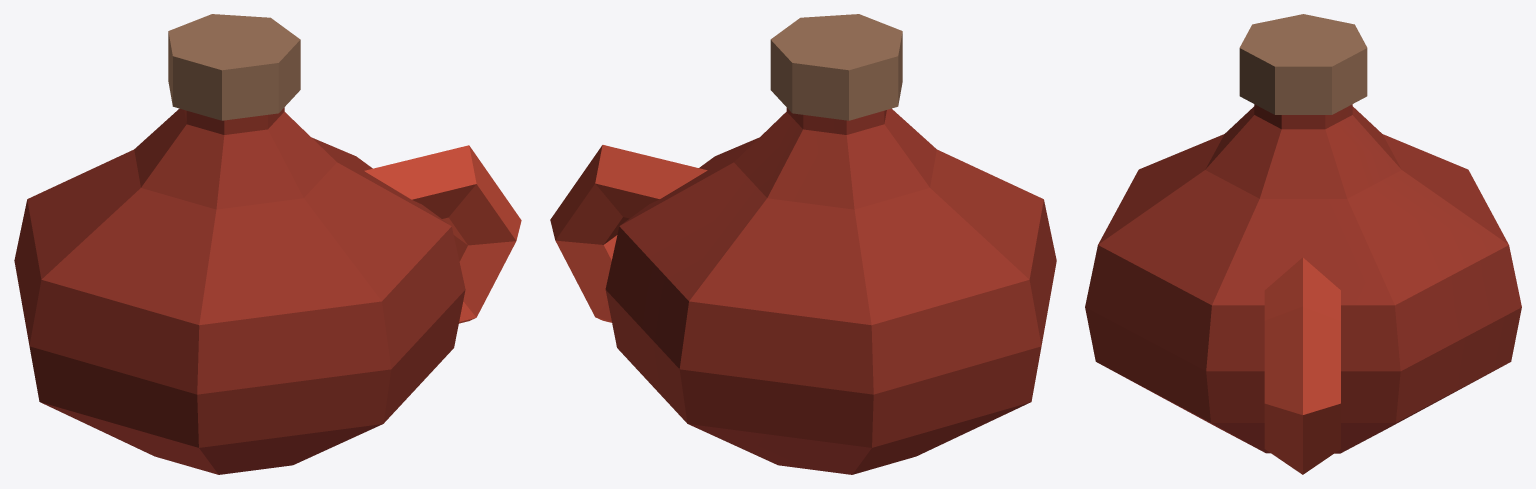
Rendered from Health Potion.fbx.
3 renders of one model, left to right at view 1: azimuth 30°, elevation 25°; view 2: azimuth 150°, elevation 25°; view 3: azimuth 270°, elevation 25°, orthographic. The views are drawn at different scales.
Visible parts, largest first — view 1: ShortHandlePotion.037; view 2: ShortHandlePotion.037; view 3: ShortHandlePotion.037.
Boxes of the visible parts, bbox=[...] form: ShortHandlePotion.037: bbox=[14, 14, 521, 474]; ShortHandlePotion.037: bbox=[550, 14, 1056, 474]; ShortHandlePotion.037: bbox=[1085, 14, 1521, 474].
Size of the model in its own units: 260 by 209 by 200.
1 material, 1 textured.
